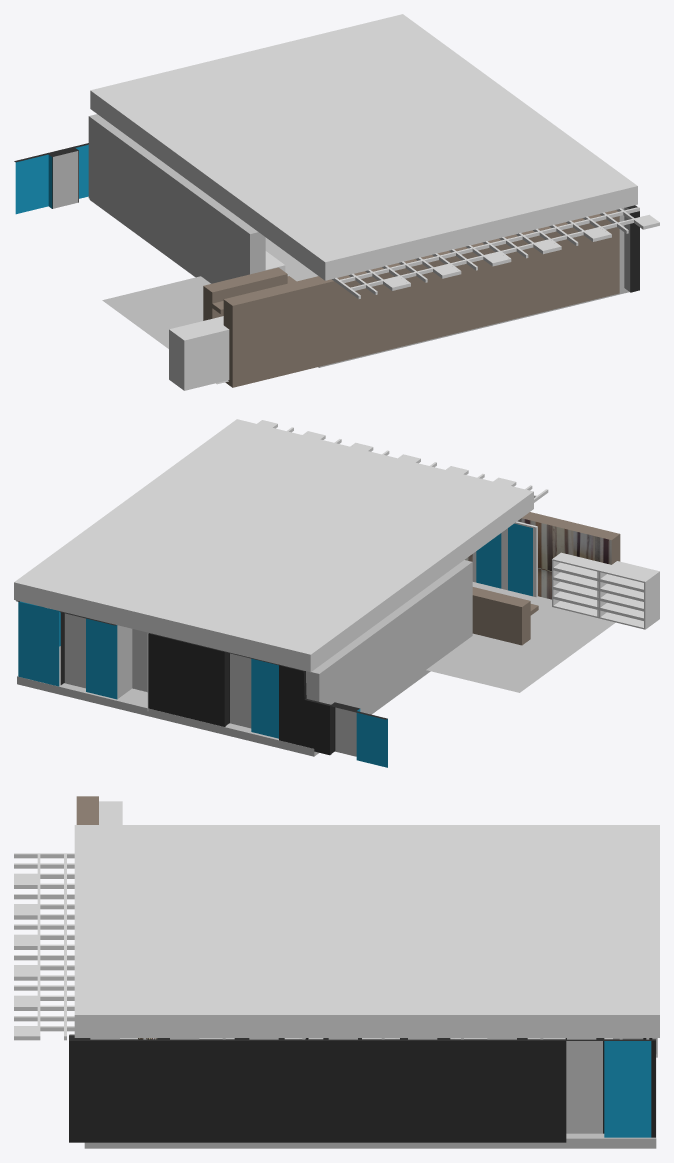
Rendered from akask.fbx.
3 views of the same model, one above another, from view 1: azimuth 30°, elevation 25°; view 2: azimuth 150°, elevation 25°; view 3: azimuth 270°, elevation 25° (orthographic). The views are drawn at different scales.
Parts seen in each view (by area): view 1: 立方体.042, 平面.004, 平面.003, 立方体.001, 立方体.005, 平面.002, 平面.030, 平面.001; view 2: 立方体.042, 立方体.001, 平面.003, 平面.002, 平面.004, 平面.030, 平面.001, 平面.029, 立方体.044, 立方体.043, 立方体.005; view 3: 立方体.042, 立方体.001, 立方体.005, 平面.001, 平面.004, 平面.030.
Boxes of the visible parts, left/top/right/bottom form: 立方体.042: left=90, top=14, right=637, bottom=280; 平面.004: left=203, top=210, right=619, bottom=387; 平面.003: left=88, top=114, right=265, bottom=283; 立方体.001: left=14, top=143, right=639, bottom=292; 立方体.005: left=332, top=207, right=659, bottom=298; 平面.002: left=102, top=237, right=317, bottom=384; 平面.030: left=169, top=317, right=229, bottom=390; 平面.001: left=89, top=199, right=629, bottom=367; 立方体.042: left=14, top=419, right=533, bottom=672; 立方体.001: left=16, top=600, right=387, bottom=767; 平面.003: left=306, top=560, right=472, bottom=714; 平面.002: left=132, top=582, right=615, bottom=692; 平面.004: left=465, top=512, right=620, bottom=645; 平面.030: left=597, top=561, right=659, bottom=629; 平面.001: left=17, top=646, right=430, bottom=756; 平面.029: left=552, top=552, right=606, bottom=618; 立方体.044: left=504, top=521, right=537, bottom=597; 立方体.043: left=472, top=531, right=504, bottom=589; 立方体.005: left=257, top=420, right=548, bottom=502; 立方体.042: left=74, top=825, right=659, bottom=1037; 立方体.001: left=69, top=1034, right=657, bottom=1142; 立方体.005: left=14, top=853, right=649, bottom=1040; 平面.001: left=84, top=1054, right=656, bottom=1148; 平面.004: left=76, top=796, right=98, bottom=824; 平面.030: left=99, top=801, right=122, bottom=824.
Size of the model in its own units: 5737 by 1365 by 5732.
